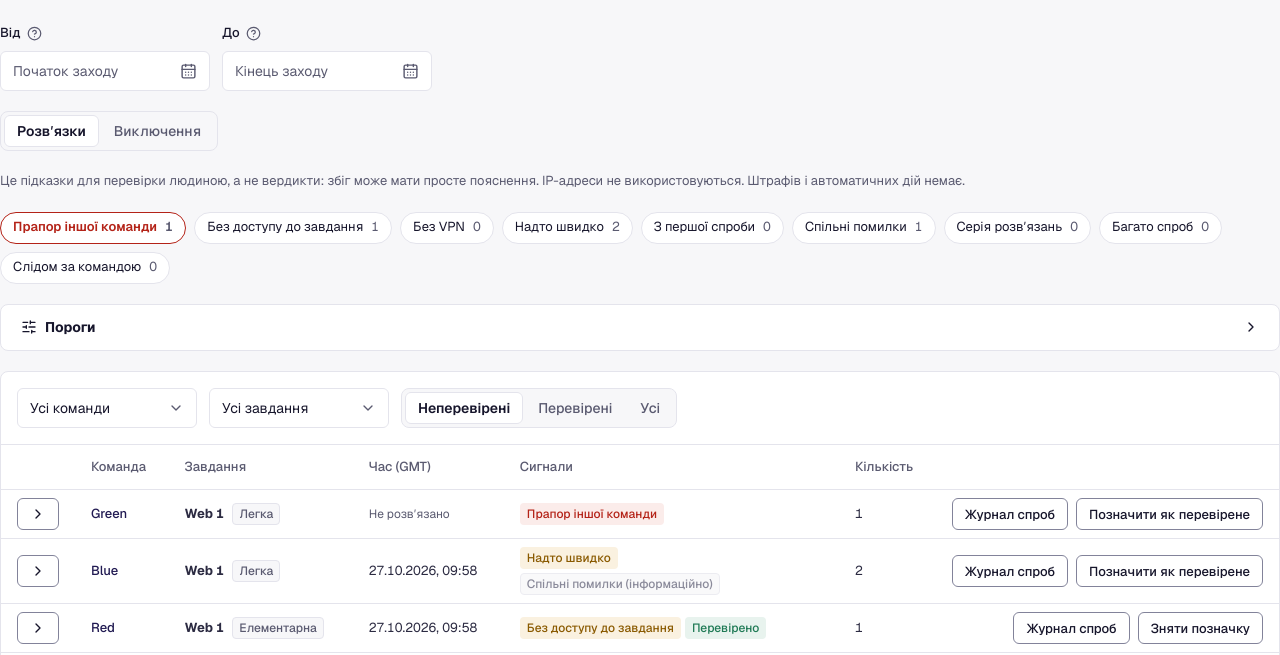
Test: Доброчесність › shows the evidence of every signal, and the review, when a row is expanded
The image size is (1280, 655).
expect the text "Здано через 3 с" is not shown: met
What coordinates should you click on to do the following:
click the button named "Докази: Blue, Web 1"
I would click on:
 (38, 571)
Its box is [17,555,59,587].
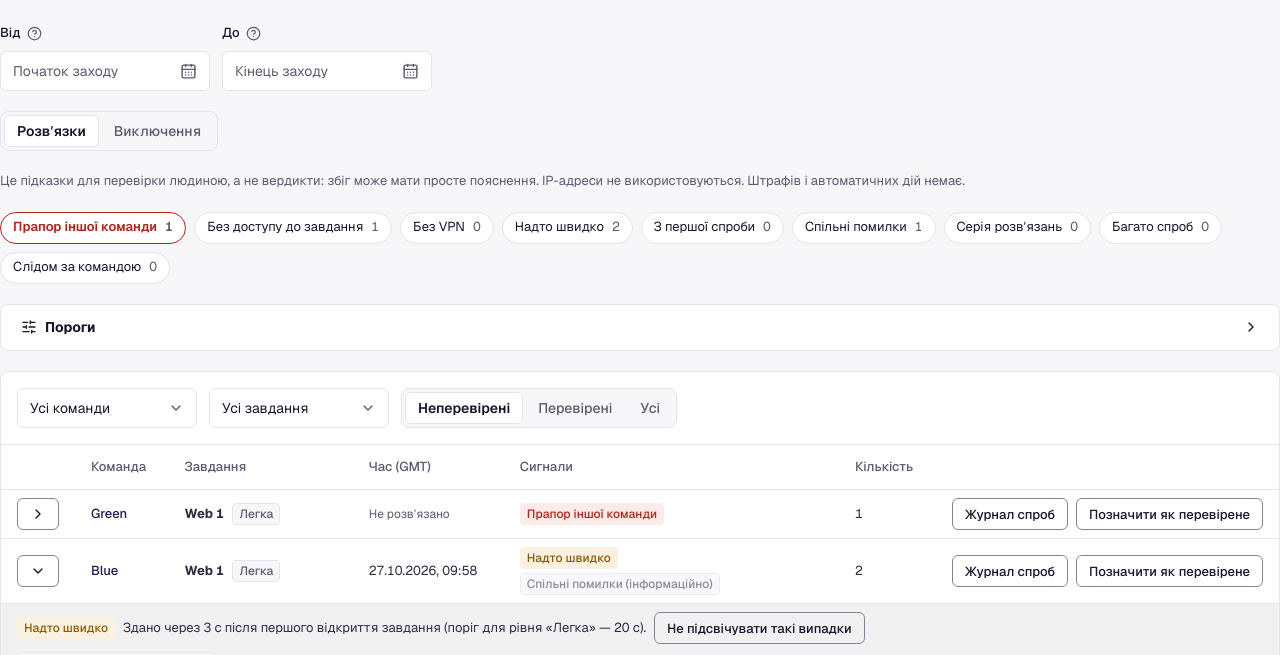
expect the text "Здано через 3 с після першого відкриття завдання (поріг для рівня «Легка» — 20 с)." is shown: met, box [123,619,646,636]
What coordinates should you click on to do the following:
click the button named "Докази: Green, Web 1"
I would click on:
 (38, 514)
Its box is [17,498,59,530].
(page scrolled)
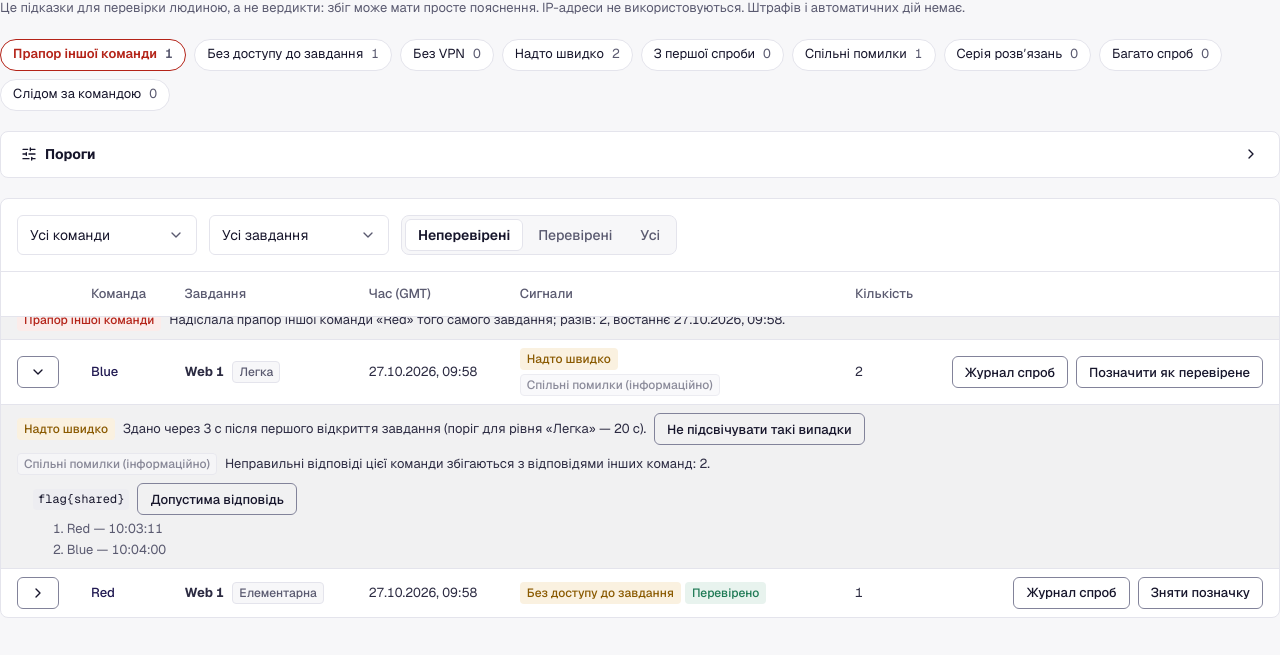
expect the number of buttons "Не підсвічувати такі випадки" is 1: met, box [654,413,865,445]
expect the text "Надіслала прапор іншої команди «Red» того самого завдання; разів: 2, востаннє " is shown: met, box [169,311,785,328]
What coordinates should you click on to do the following:
click the button named "Докази: Red, Web 1"
I would click on:
 (38, 593)
Its box is [17,577,59,609].
(page scrolled)
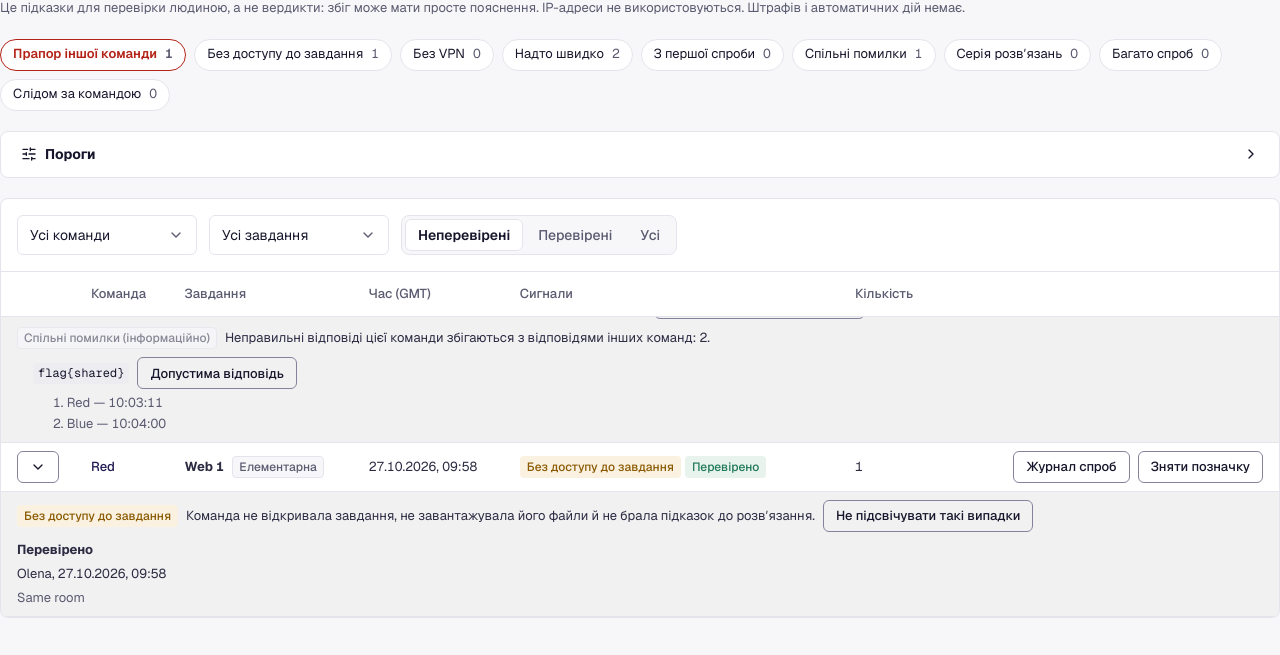
expect the text "Same room" is shown: met, box [17,589,85,606]
expect the text "Перевірено Olena, 27.10.2026, 09:58 Same room" is shown: met, box [17,541,166,606]
